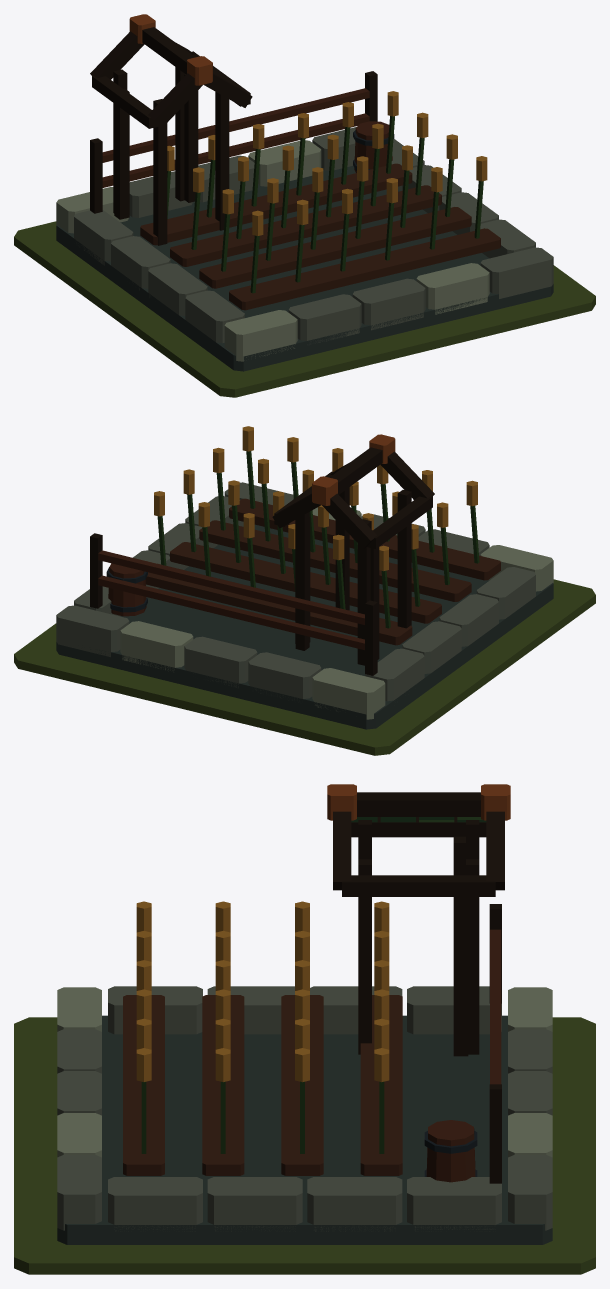
Rendered from farm_t3.glb.
3 views of the same model, one above another, from view 1: azimuth 30°, elevation 25°; view 2: azimuth 150°, elevation 25°; view 3: azimuth 270°, elevation 25° (orthographic). The views are drawn at different scales.
Parts seen in each view (by area): view 1: MMR | farm | T03 Architecture.001, MMR | farm | Tier 03 Ground.001, MMR | farm | T03 Shelter Supports.001; view 2: MMR | farm | T03 Architecture.001, MMR | farm | Tier 03 Ground.001, MMR | farm | T03 Shelter Supports.001; view 3: MMR | farm | T03 Architecture.001, MMR | farm | Tier 03 Ground.001, MMR | farm | T03 Shelter Supports.001.
Part boxes in pixels (x1,y1,x2,y2): MMR | farm | T03 Architecture.001: [56, 14, 553, 371]; MMR | farm | Tier 03 Ground.001: [14, 221, 595, 397]; MMR | farm | T03 Shelter Supports.001: [113, 67, 229, 245]; MMR | farm | T03 Architecture.001: [56, 426, 553, 729]; MMR | farm | Tier 03 Ground.001: [14, 579, 595, 755]; MMR | farm | T03 Shelter Supports.001: [295, 487, 411, 665]; MMR | farm | T03 Architecture.001: [57, 784, 552, 1244]; MMR | farm | Tier 03 Ground.001: [14, 1017, 595, 1274]; MMR | farm | T03 Shelter Supports.001: [358, 820, 479, 1054].
Size of the model in its own units: 2.35 by 1.34 by 2.35.
1 material, 1 textured.
